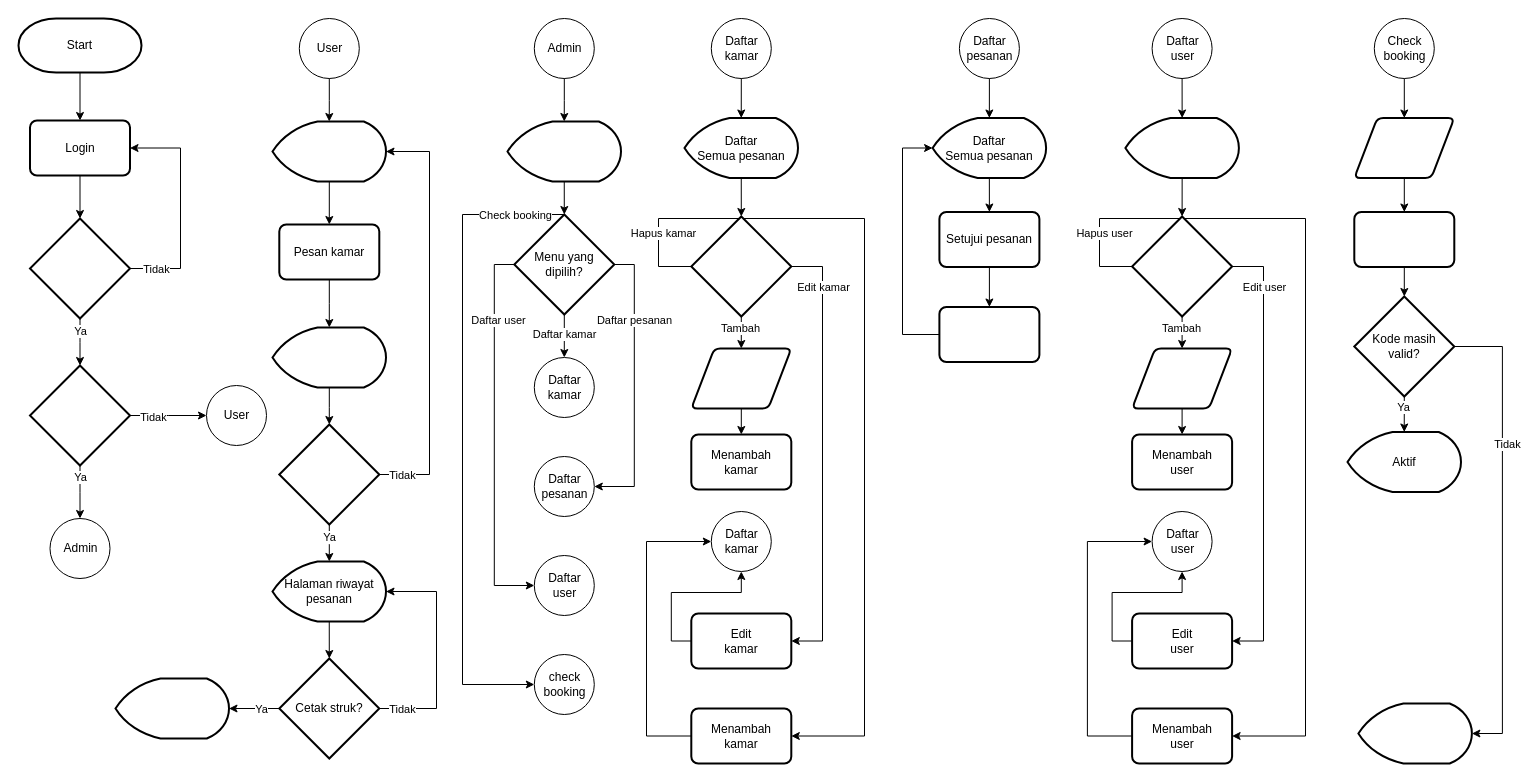
The diagram is 1538 pixels wide and 781 high, and some of its shapes have lost their labels. Here are the shapes that lost their labels. From the top down, the centre of each, then its label:
At pixel 328 151: "Halaman utama".
At pixel 564 151: "Dashboard admin".
At pixel 1181 147: "Daftar Semua user".
At pixel 1404 147: "Input kode booking".
At pixel 1404 239: "Proses cek kode".
At pixel 79 268: "kredensial benar?".
At pixel 741 266: "Kelola kamar?".
At pixel 1182 266: "Kelola user?".
At pixel 989 334: "Setujui pembayaran".
At pixel 328 357: "Detail pesanan".
At pixel 741 378: "Input informasi kamar".
At pixel 1182 378: "Input informasi user".
At pixel 79 415: "Admin?".
At pixel 329 474: "Lihat riwayat pesanan?".
At pixel 172 708: "Struk pemesanan".
At pixel 1414 733: "Kedaluarsa".
